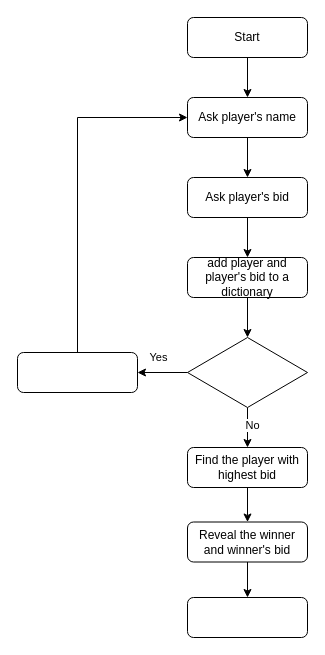
Image size: 325x655. Some labels were removed from this diagram. The centre of each missing label's shape, as x and y in pixels:
"Add a new player?" goes at pixel 247 372.
"Clear the screen" goes at pixel 77 372.
"End" goes at pixel 247 617.
